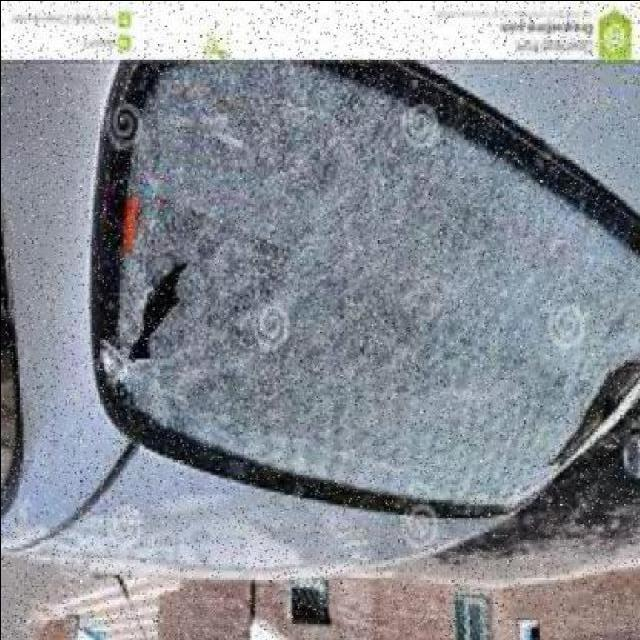Rear-windscreen-Damage: (51, 40, 640, 501)
